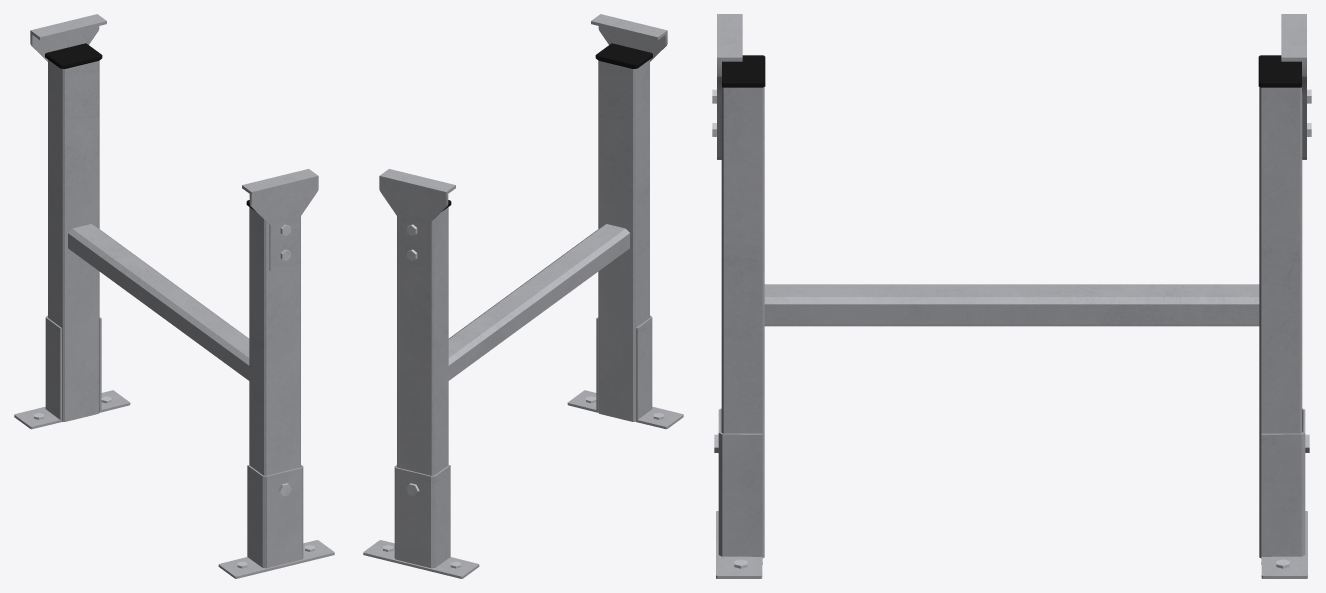
Rendered from LegsStand.glb.
3 views of the same model, side by side, from view 1: azimuth 30°, elevation 25°; view 2: azimuth 150°, elevation 25°; view 3: azimuth 270°, elevation 25° (orthographic). The views are drawn at different scales.
Parts seen in each view (by area): view 1: LegsStand; view 2: LegsStand; view 3: LegsStand.
Part boxes in pixels (<box>): LegsStand: <box>14,14,334,578</box>; LegsStand: <box>363,14,683,578</box>; LegsStand: <box>712,14,1311,578</box>.
Bounding box in the file's own units: 0.5302 × 1.95 × 2.07.
Materials: 3 (2 with a texture image).
